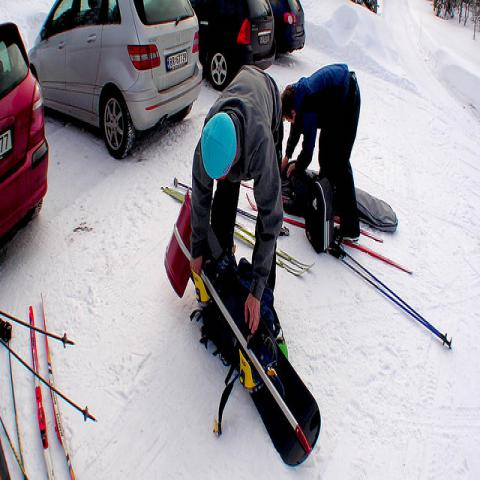car: (28, 0, 204, 162), (0, 22, 49, 239), (192, 3, 278, 94), (269, 0, 306, 54)
